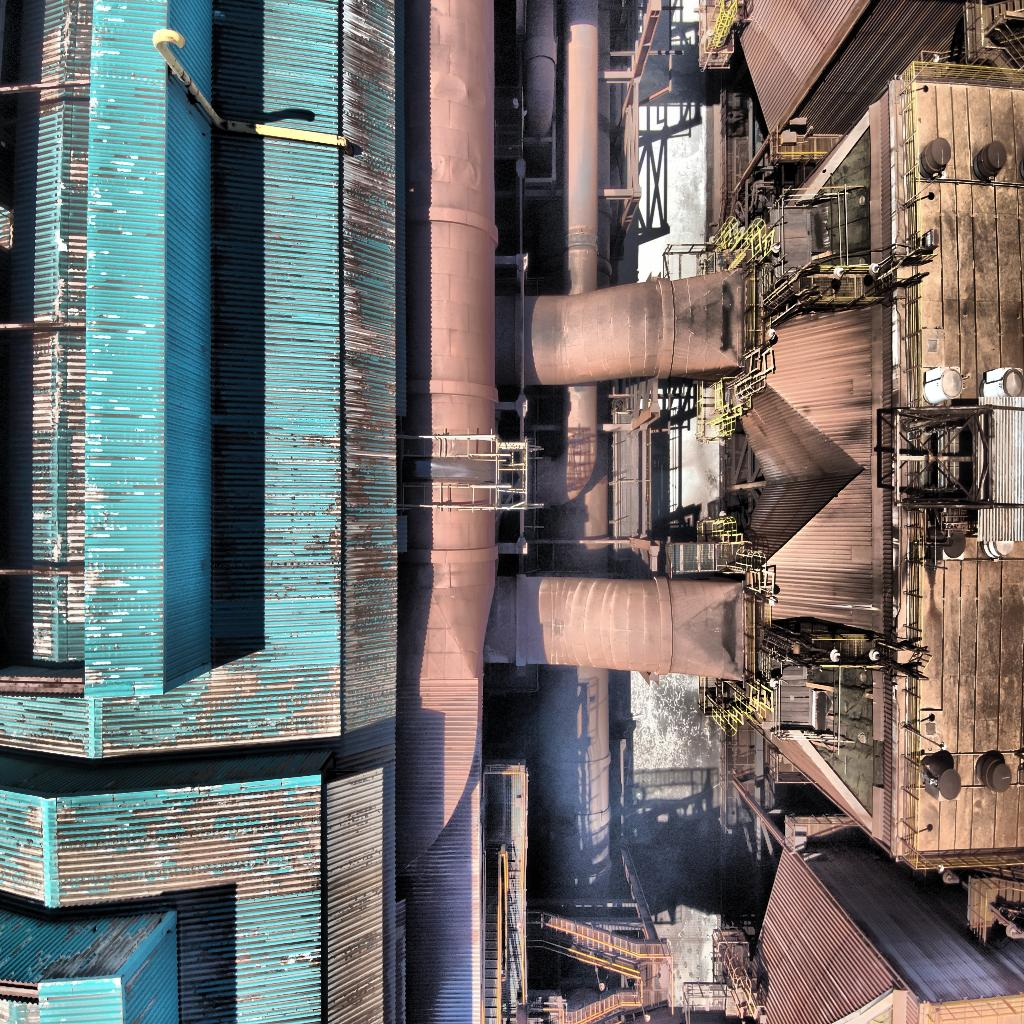Failures: (770, 656, 882, 826), (792, 122, 880, 280)
